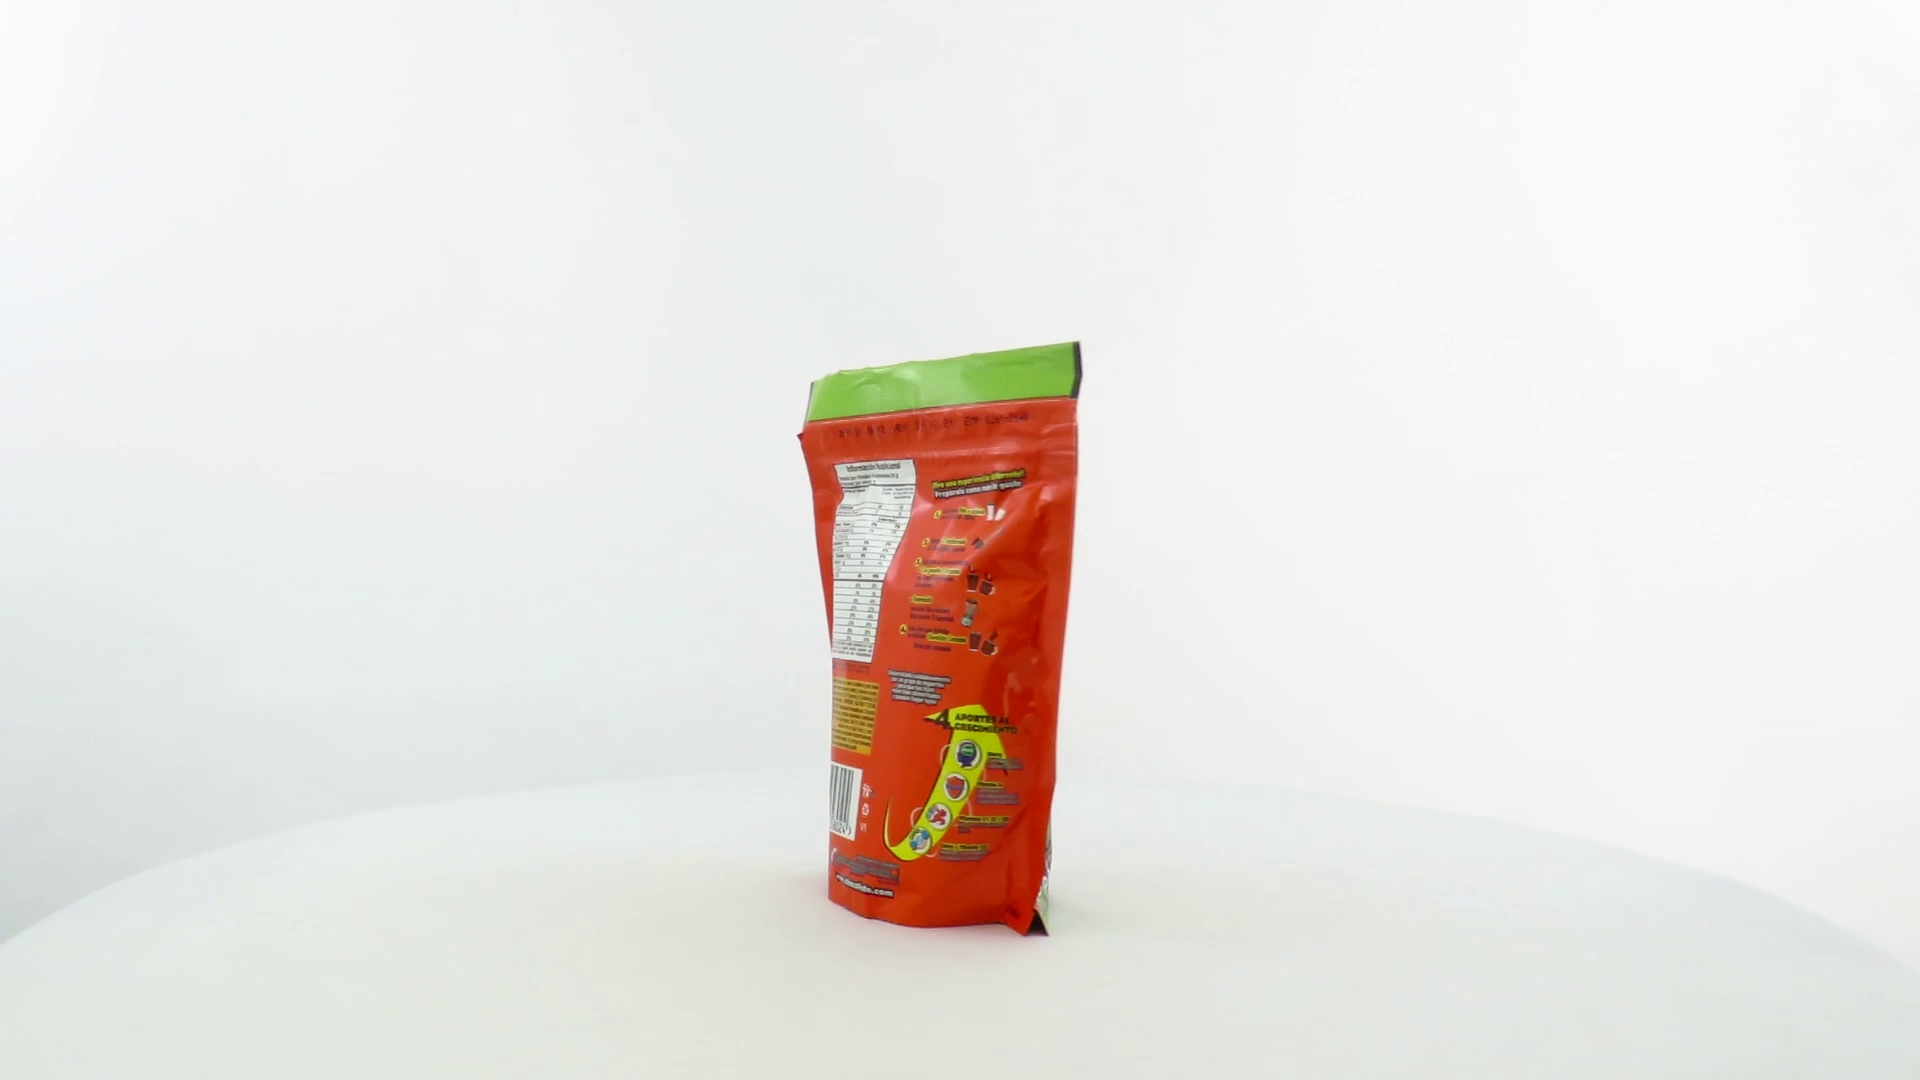COL0170102DYP10000: (793, 336, 1089, 943)
